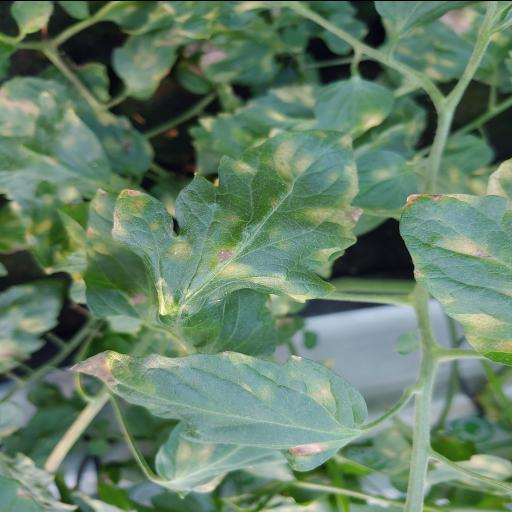disease_tomato: (82, 130, 362, 356), (68, 349, 365, 471)
